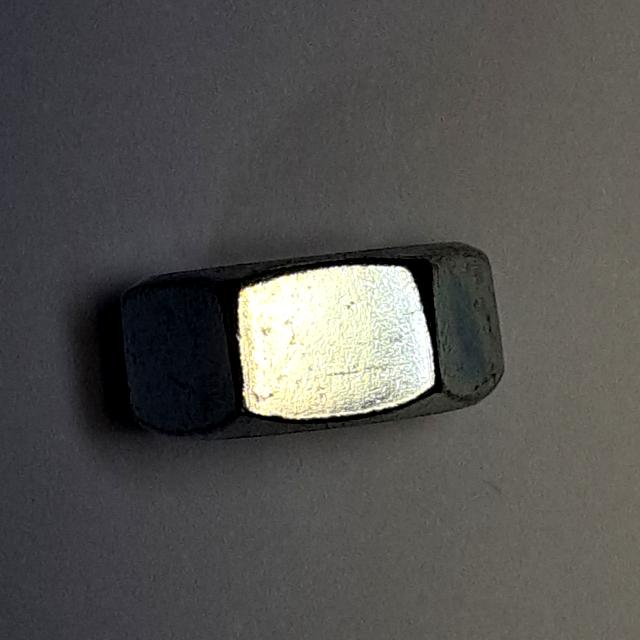Side_Excellent: (109, 224, 514, 458)
